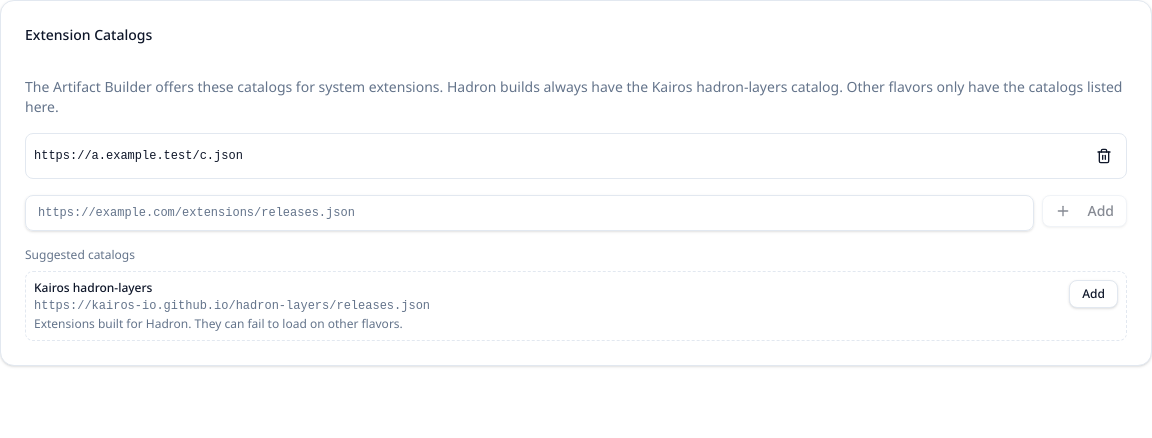
ExtensionCatalogsCard › adds a typed catalog after the saved ones
The width and height of the screenshot is (1152, 438).
Check: the text "https://a.example.test/c.json" is shown, box [34, 149, 243, 163]
In the field named "New extension catalog URL": (530, 213) [25, 195, 1034, 231], type " https://b.example.test/c.json "
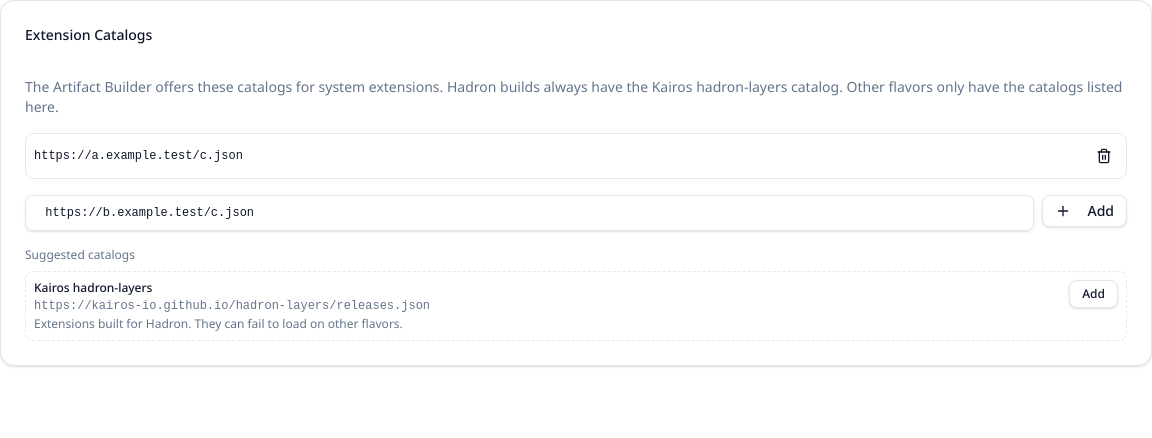
Click the 1st button "Add": (1085, 211) [1042, 195, 1127, 227]
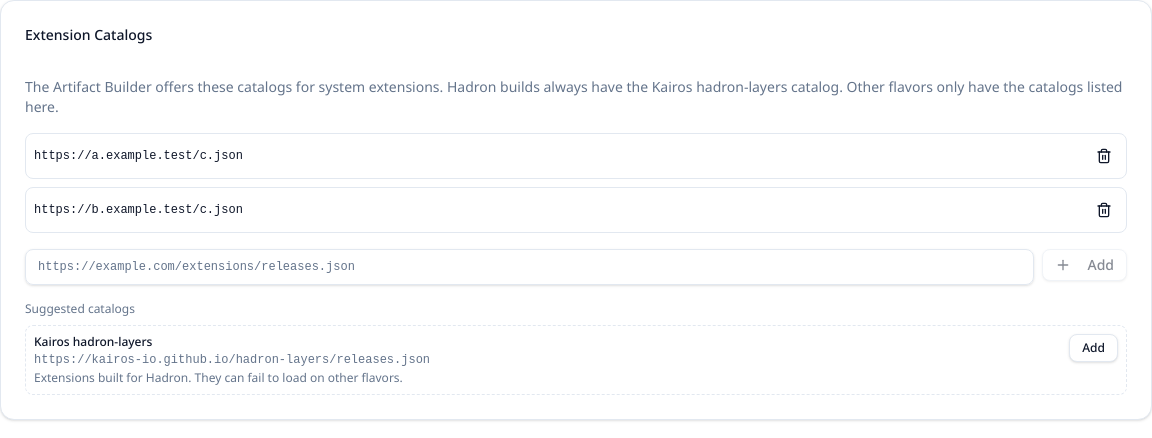
Check: the text "https://b.example.test/c.json" is shown, box [34, 203, 243, 217]
